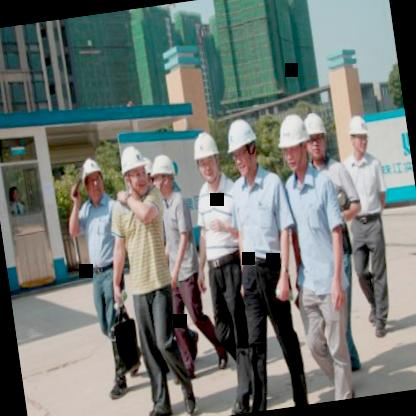helmet: (222, 113, 262, 180), (274, 110, 312, 175), (188, 127, 226, 187), (116, 142, 151, 198), (301, 110, 330, 164), (148, 150, 179, 198), (342, 112, 374, 158), (77, 154, 106, 202)
